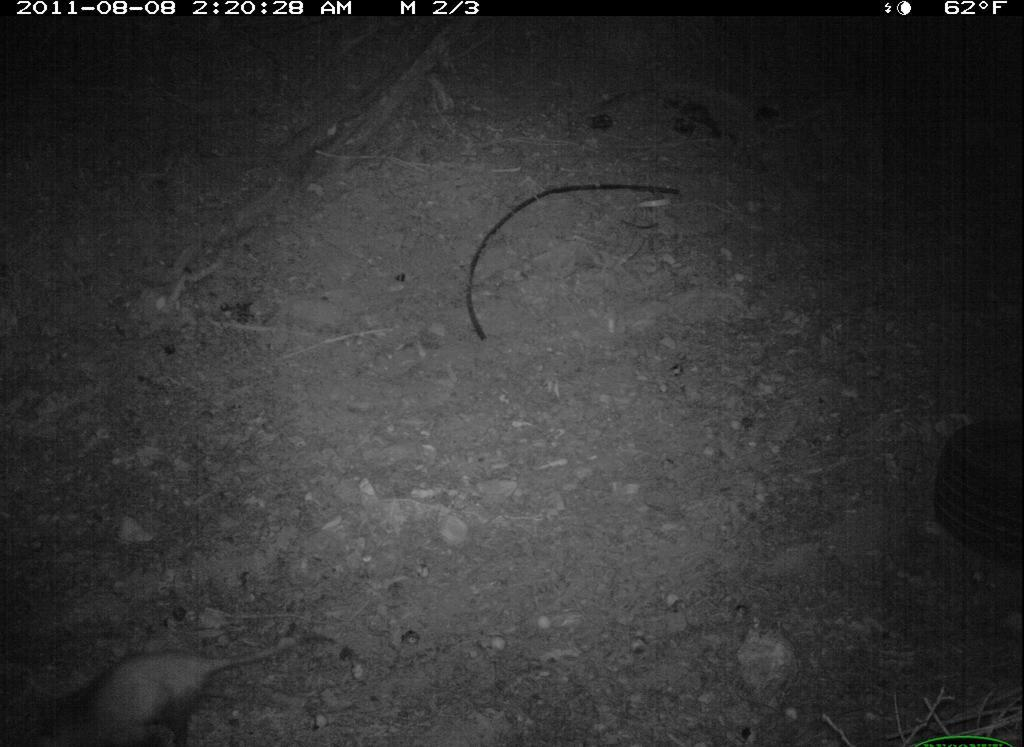opossum: (17, 617, 304, 747)
